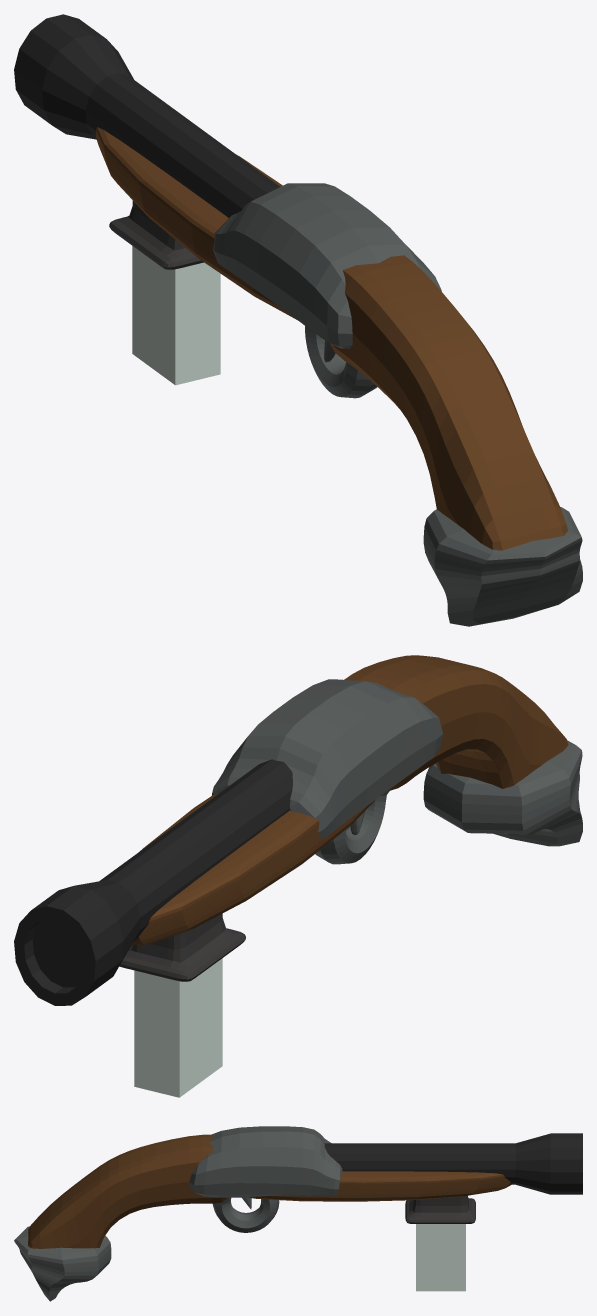
Rendered from PiratePistol.fbx.
3 views of the same model, one above another, from view 1: azimuth 30°, elevation 25°; view 2: azimuth 150°, elevation 25°; view 3: azimuth 270°, elevation 25° (orthographic). The views are drawn at different scales.
Visible parts, largest first — view 1: Handle, barrel, Brace, Cube, Ammo, BarellHolder, Ammo Holder; view 2: barrel, Brace, Handle, Ammo, Cube, BarellHolder, Ammo Holder; view 3: Handle, barrel, Brace, BarellHolder, Ammo, Cube, Ammo Holder.
Part boxes in pixels (x1,y1,x2,y2): Handle: (305,255,567,550); barrel: (14,14,279,217); Brace: (213,183,441,348); Cube: (423,507,582,626); Ammo: (132,246,220,385); BarellHolder: (95,127,296,319); Ammo Holder: (109,200,203,269); barrel: (14,759,292,1005); Brace: (212,679,442,839); Handle: (315,655,568,864); Ammo: (134,958,222,1097); Cube: (423,740,582,846); BarellHolder: (132,794,375,945); Ammo Holder: (119,913,245,981); Handle: (28,1134,279,1248); barrel: (324,1133,582,1194); Brace: (189,1126,342,1197); BarellHolder: (247,1171,511,1201); Ammo: (416,1224,465,1291); Cube: (14,1226,111,1301); Ammo Holder: (405,1195,475,1223).
Size of the model in its own units: 79.78 by 155 by 502.
